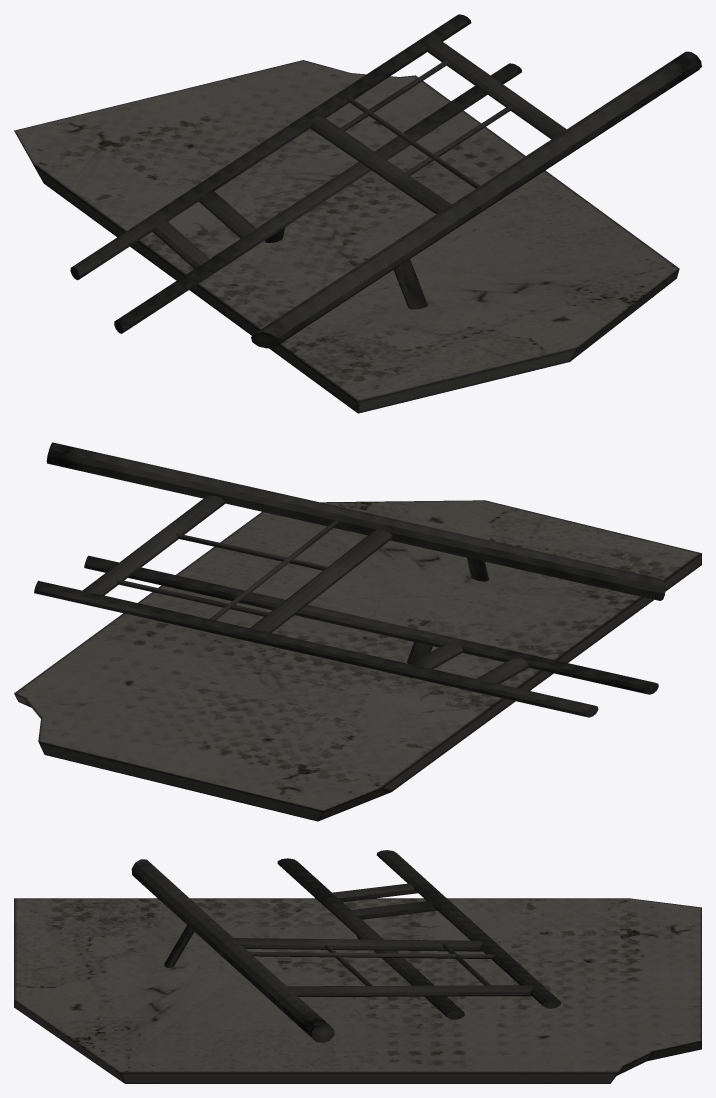
File: Model_DebrisMedium.fbx
3 renders of one model, top to bottom at view 1: azimuth 30°, elevation 25°; view 2: azimuth 150°, elevation 25°; view 3: azimuth 270°, elevation 25°, orthographic. The views are drawn at different scales.
Parts seen in each view (by area): view 1: polySurface1; view 2: polySurface1; view 3: polySurface1.
Boxes of the visible parts, box(x1,y1,x2,y2) form: polySurface1: box(14, 14, 701, 413); polySurface1: box(14, 442, 701, 821); polySurface1: box(14, 850, 701, 1083).
Size of the model in its own units: 6.59 by 1.29 by 6.96.
